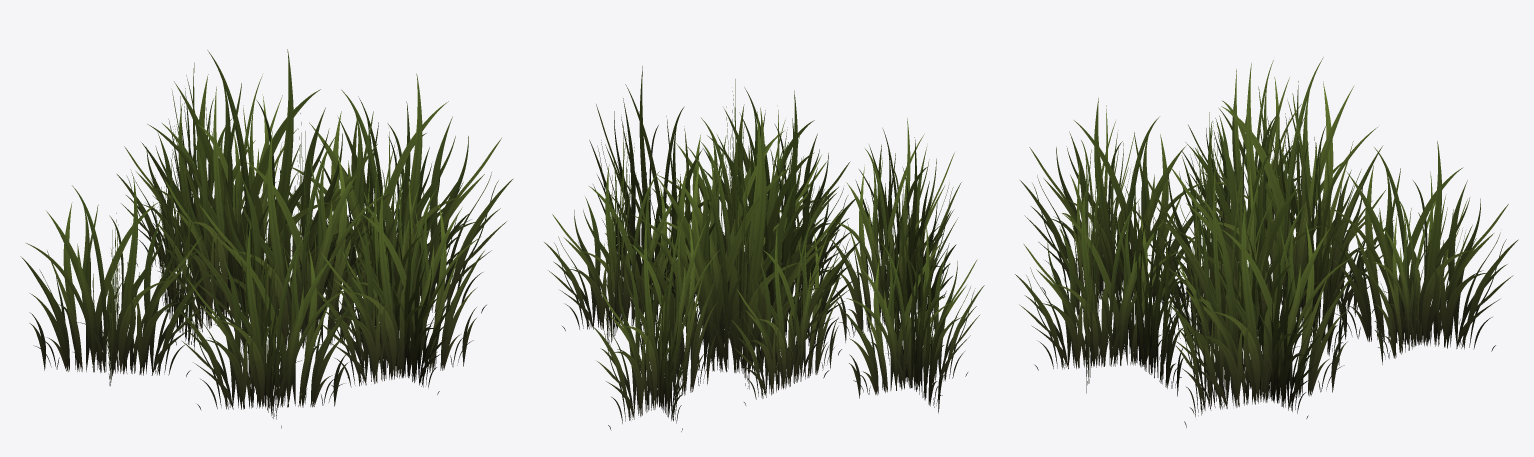
The model's file is Grass_07.fbx.
3 views of the same model, side by side, from view 1: azimuth 30°, elevation 25°; view 2: azimuth 150°, elevation 25°; view 3: azimuth 270°, elevation 25° (orthographic). The views are drawn at different scales.
Parts seen in each view (by area): view 1: Grass_07; view 2: Grass_07; view 3: Grass_07.
Boxes of the visible parts, x1,y1,x2,y2 form: Grass_07: (20,49,513,428); Grass_07: (544,66,984,431); Grass_07: (1015,57,1518,427).
Bounding box in the file's own units: 1.91 × 1.9 × 1.22.
